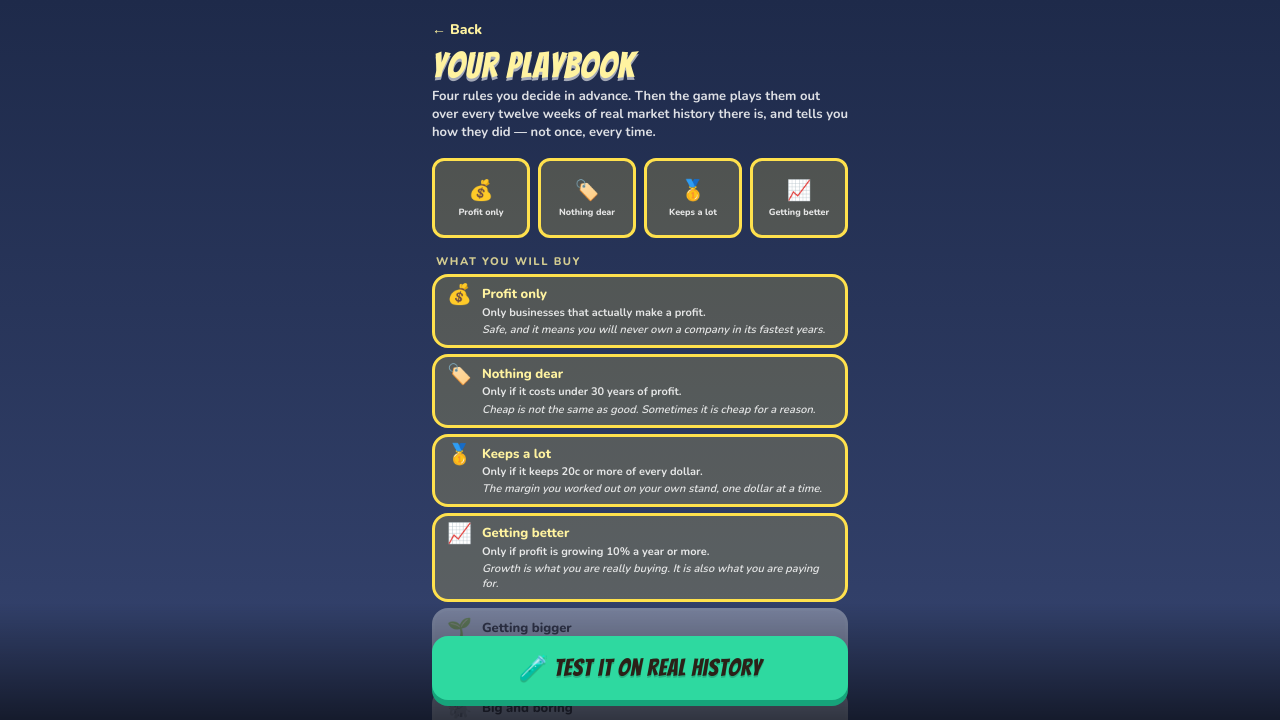
Test: backtesting a playbook › runs the history only when the kid asks
Click the button "🧪 Test it on real history". click: (640, 668)
box: 432,636 -> 848,700
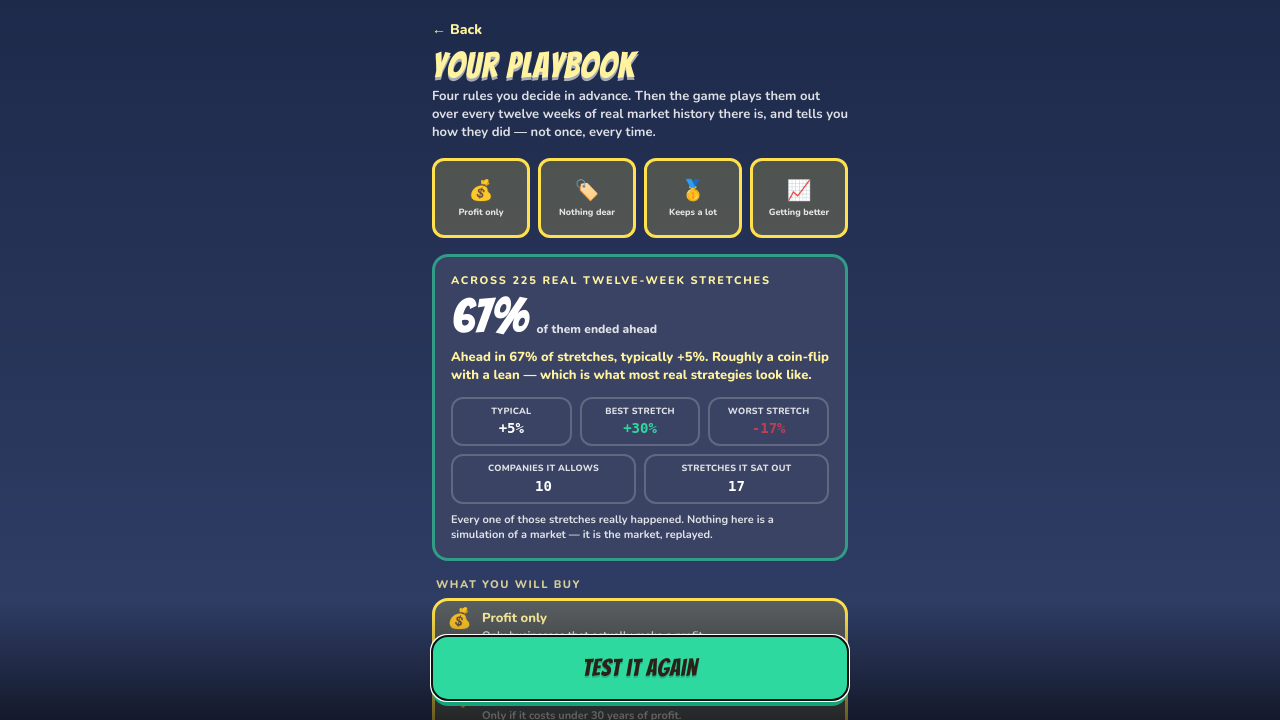
Result: the button "Test it again" is shown at 432,636 -> 848,700
